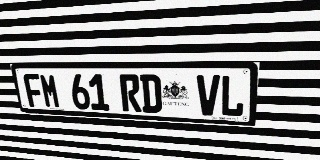1: (87, 74, 109, 111)
6: (69, 74, 91, 110)
D: (140, 74, 162, 113)
F: (23, 74, 45, 108)
L: (220, 75, 246, 117)
M: (39, 74, 61, 108)
R: (119, 74, 142, 112)
V: (197, 75, 220, 116)
